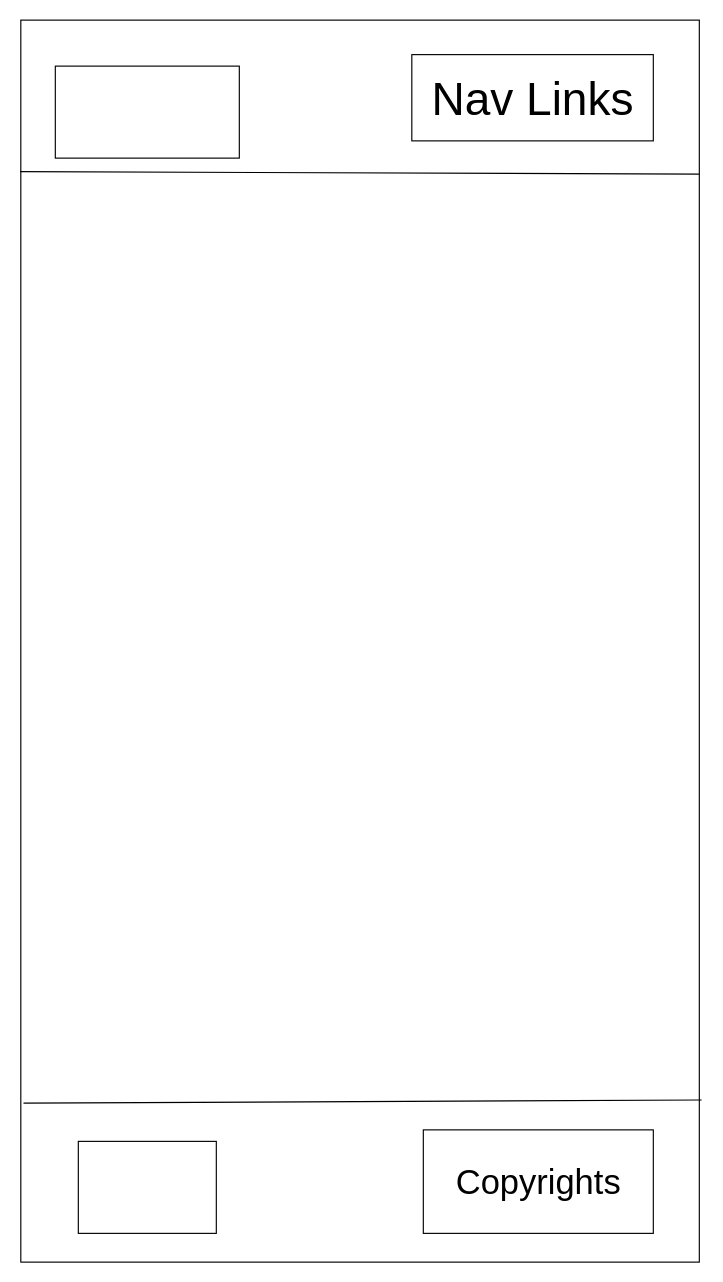
Some shapes in this 723 by 1282 pixel diagram are drawn without their labels. Here are the shapes that lost their labels. From the top down, the centre of each, then its label:
the point at 146,111: Logo
the point at 146,1186: info
